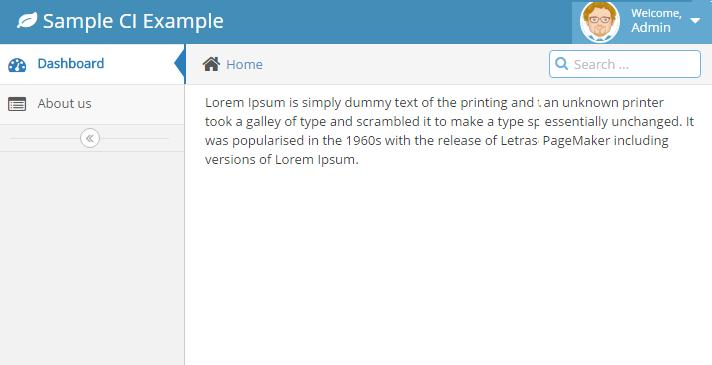textbox: (543, 46, 704, 78)
